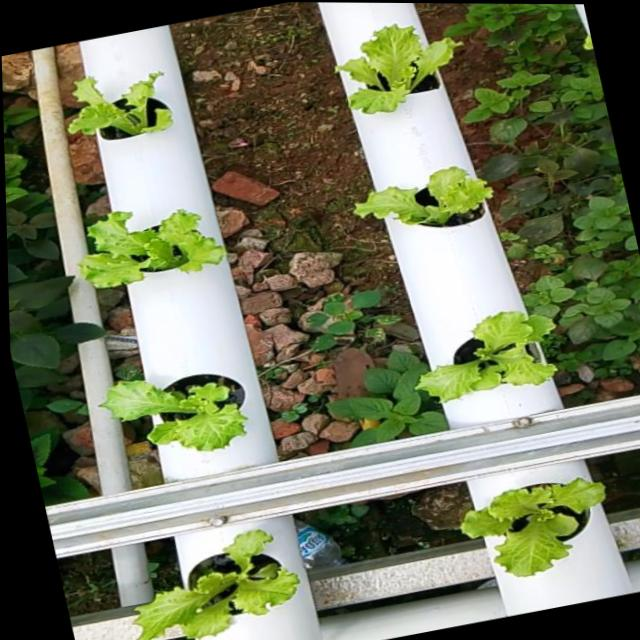Baby: (123, 526, 290, 640), (454, 462, 600, 577), (409, 310, 554, 403), (100, 374, 248, 453), (79, 209, 227, 288), (338, 25, 465, 115), (355, 167, 495, 228), (70, 72, 174, 140)
